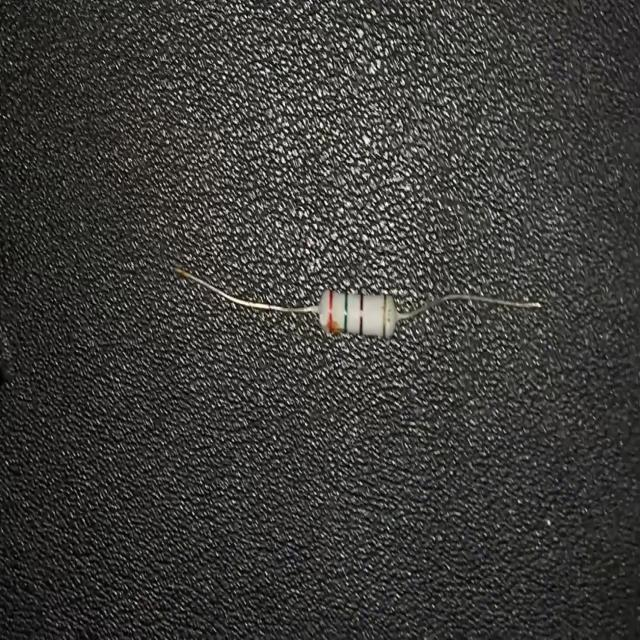burnt: (318, 313, 344, 335)
resistor: (173, 258, 544, 345)
